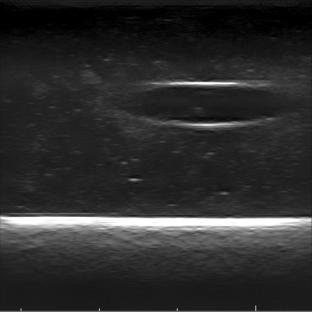vessel: (131, 79, 278, 131)
